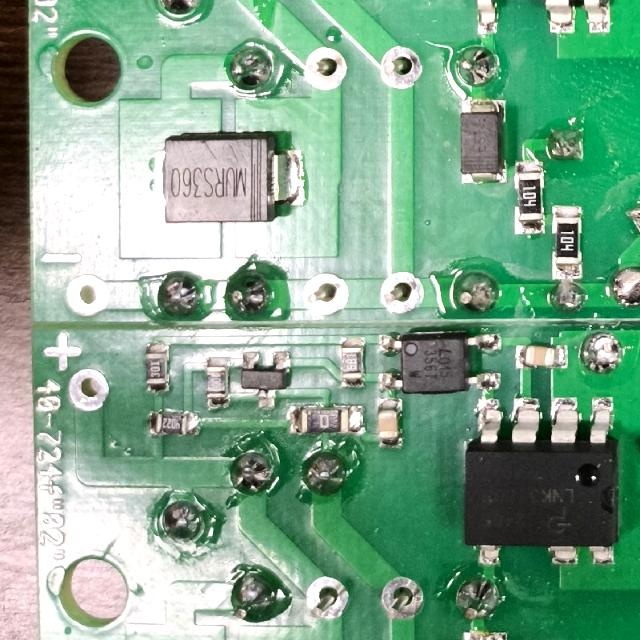chip-capacitor: (515, 342, 570, 370), (377, 397, 406, 449)
chip-resistor: (550, 203, 583, 281), (287, 402, 366, 434), (513, 159, 546, 234), (205, 356, 234, 411), (150, 408, 202, 437), (340, 337, 368, 388), (146, 341, 170, 392)
diode: (151, 132, 306, 224), (459, 96, 507, 186)
ic: (460, 394, 624, 567), (377, 328, 505, 396)
transistor: (241, 349, 294, 410)
